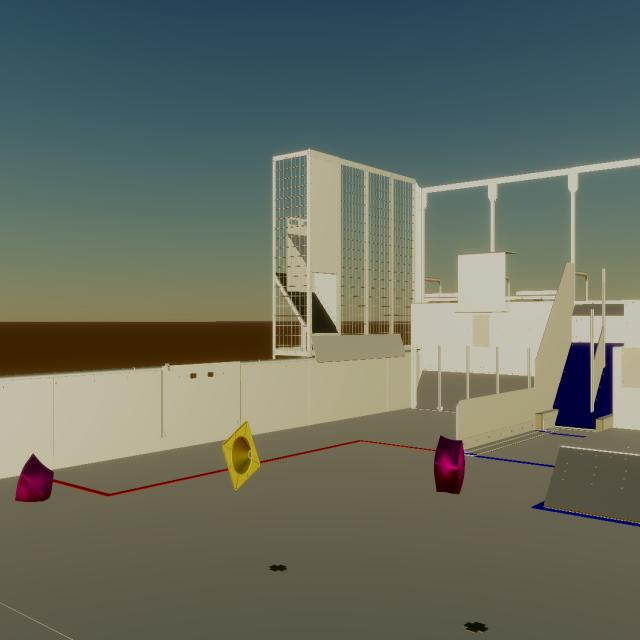frc_cone: (222, 420, 260, 490)
frc_cube: (15, 453, 54, 502), (434, 436, 465, 494)
